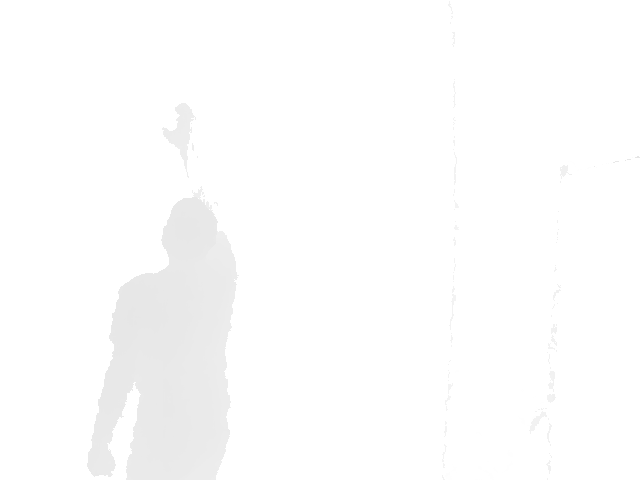hand: (160, 102, 197, 166)
head: (161, 197, 220, 266)
person: (85, 101, 237, 480)
